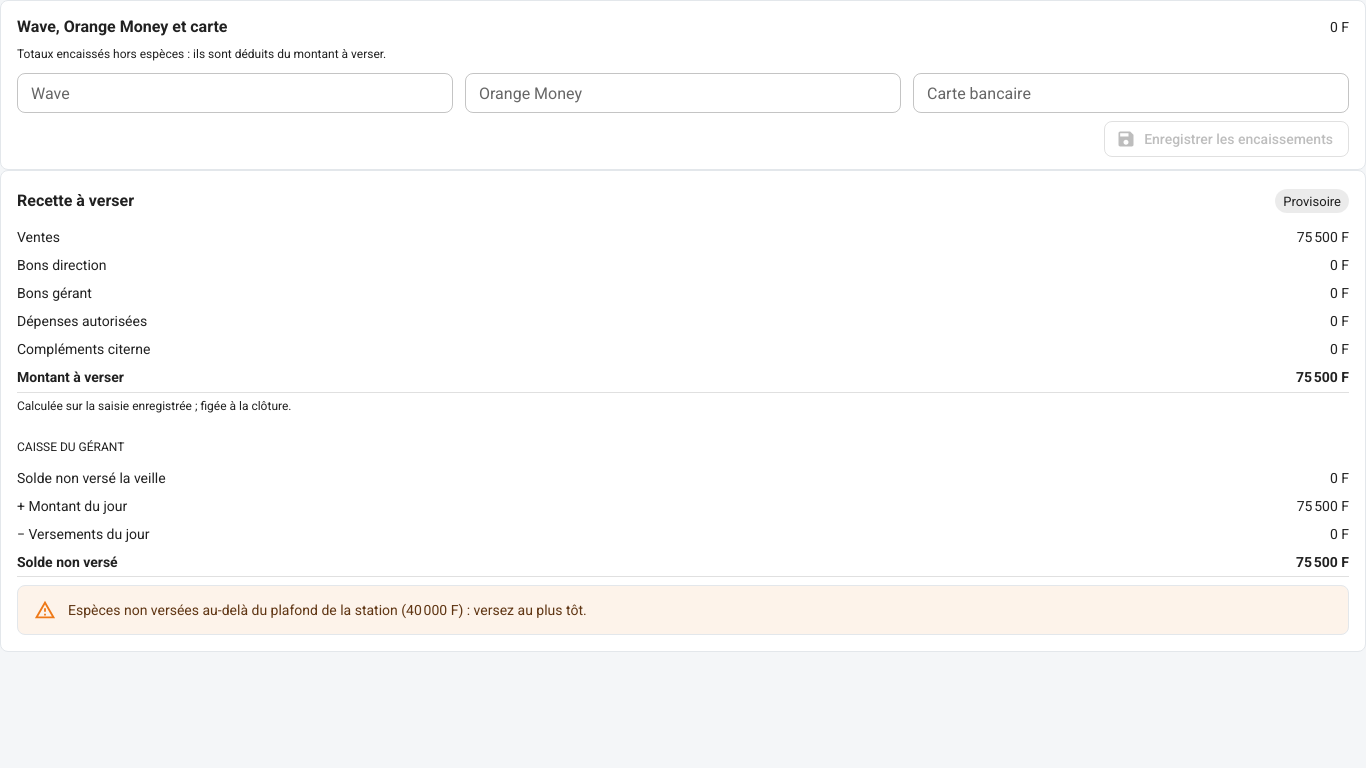
encaissements électroniques de la journée › déduit Wave et carte des espèces à verser et alerte au-delà du plafond
expect the message with test id "alerte-plafond" shows "40 000 F": met, box [406, 602, 458, 618]
Step 1. Type "20000" into the field labelled "Wave" → coordinates (235, 93), box [17, 73, 453, 113]
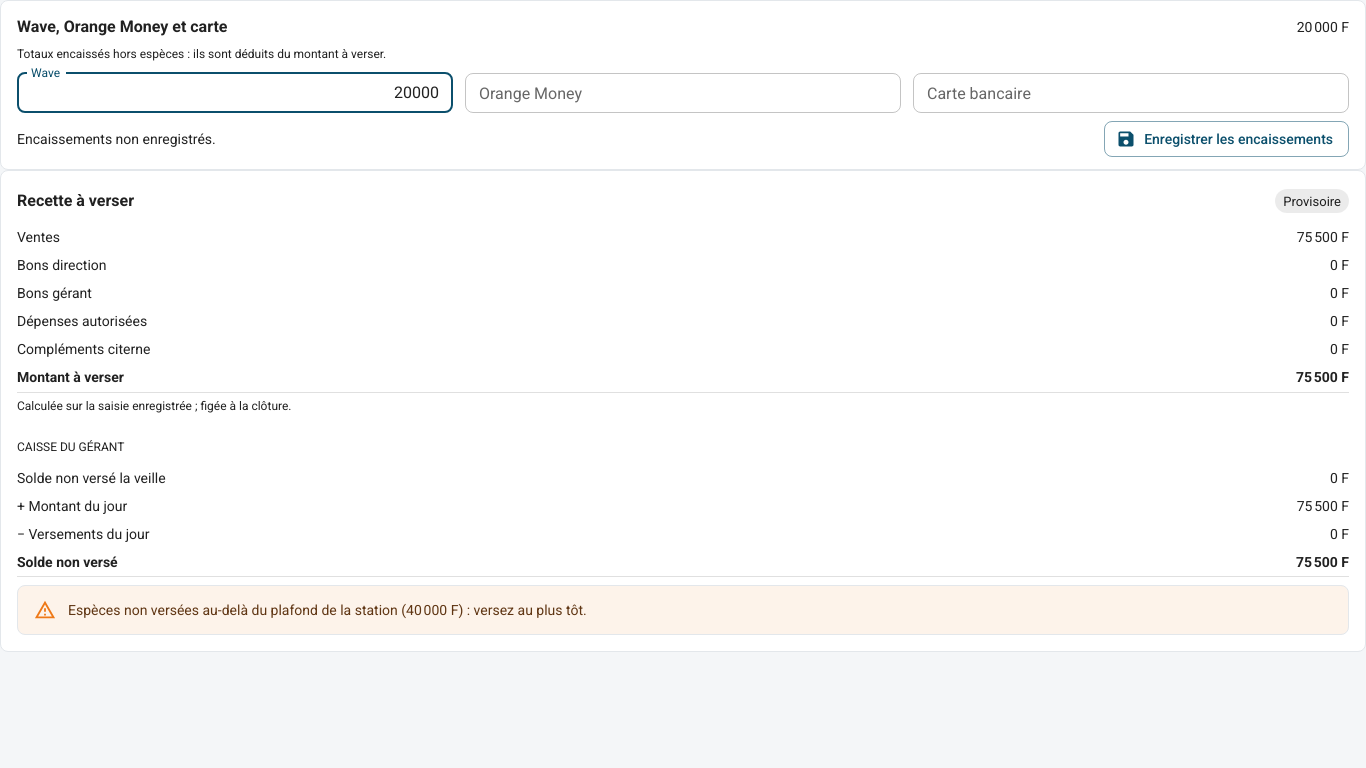
Step 2. Type "20000" into the field labelled "Carte bancaire" → coordinates (1131, 93), box [913, 73, 1349, 113]
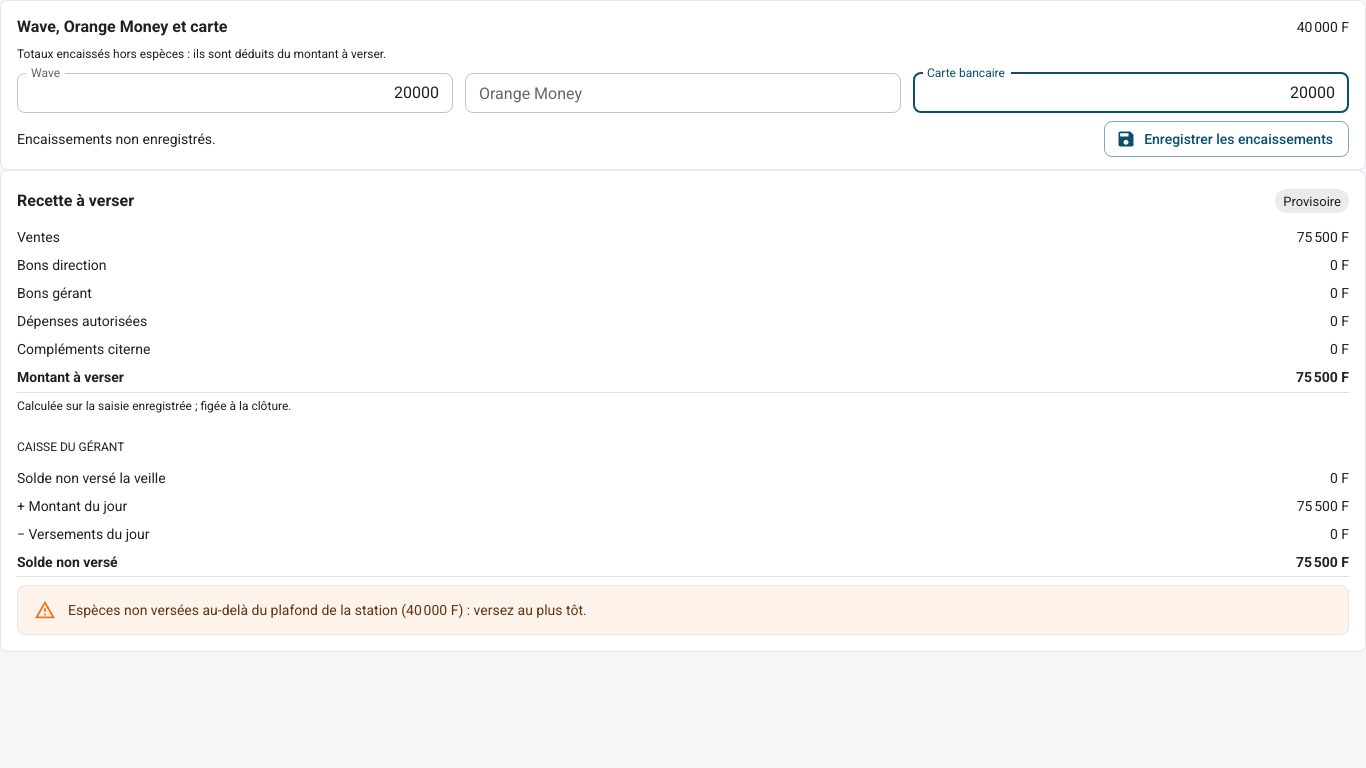
expect the text "Encaissements non enregistrés." is shown: met, box [17, 131, 216, 147]
expect the text with test id "total-encaissements" reads "40 000 F": met, box [1297, 19, 1349, 35]
Step 3. Click the button "Enregistrer les encaissements" → coordinates (1227, 139), box [1104, 121, 1349, 157]
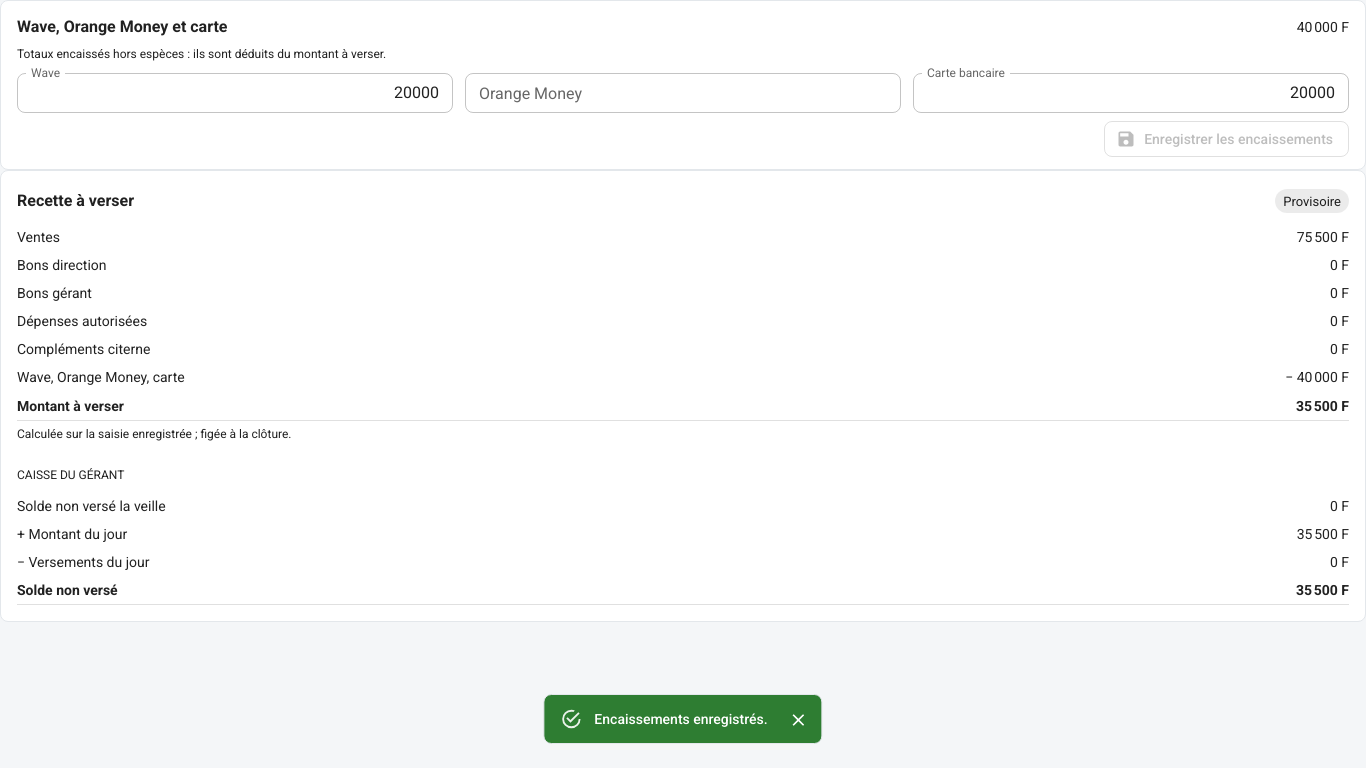
expect the cell with test id "montant-a-verser" reads "35 500 F": met, box [1296, 398, 1349, 414]
expect the cell with test id "encaissements" reads "− 40 000 F": met, box [1285, 370, 1349, 386]
expect the message with test id "alerte-plafond" is gone: met
